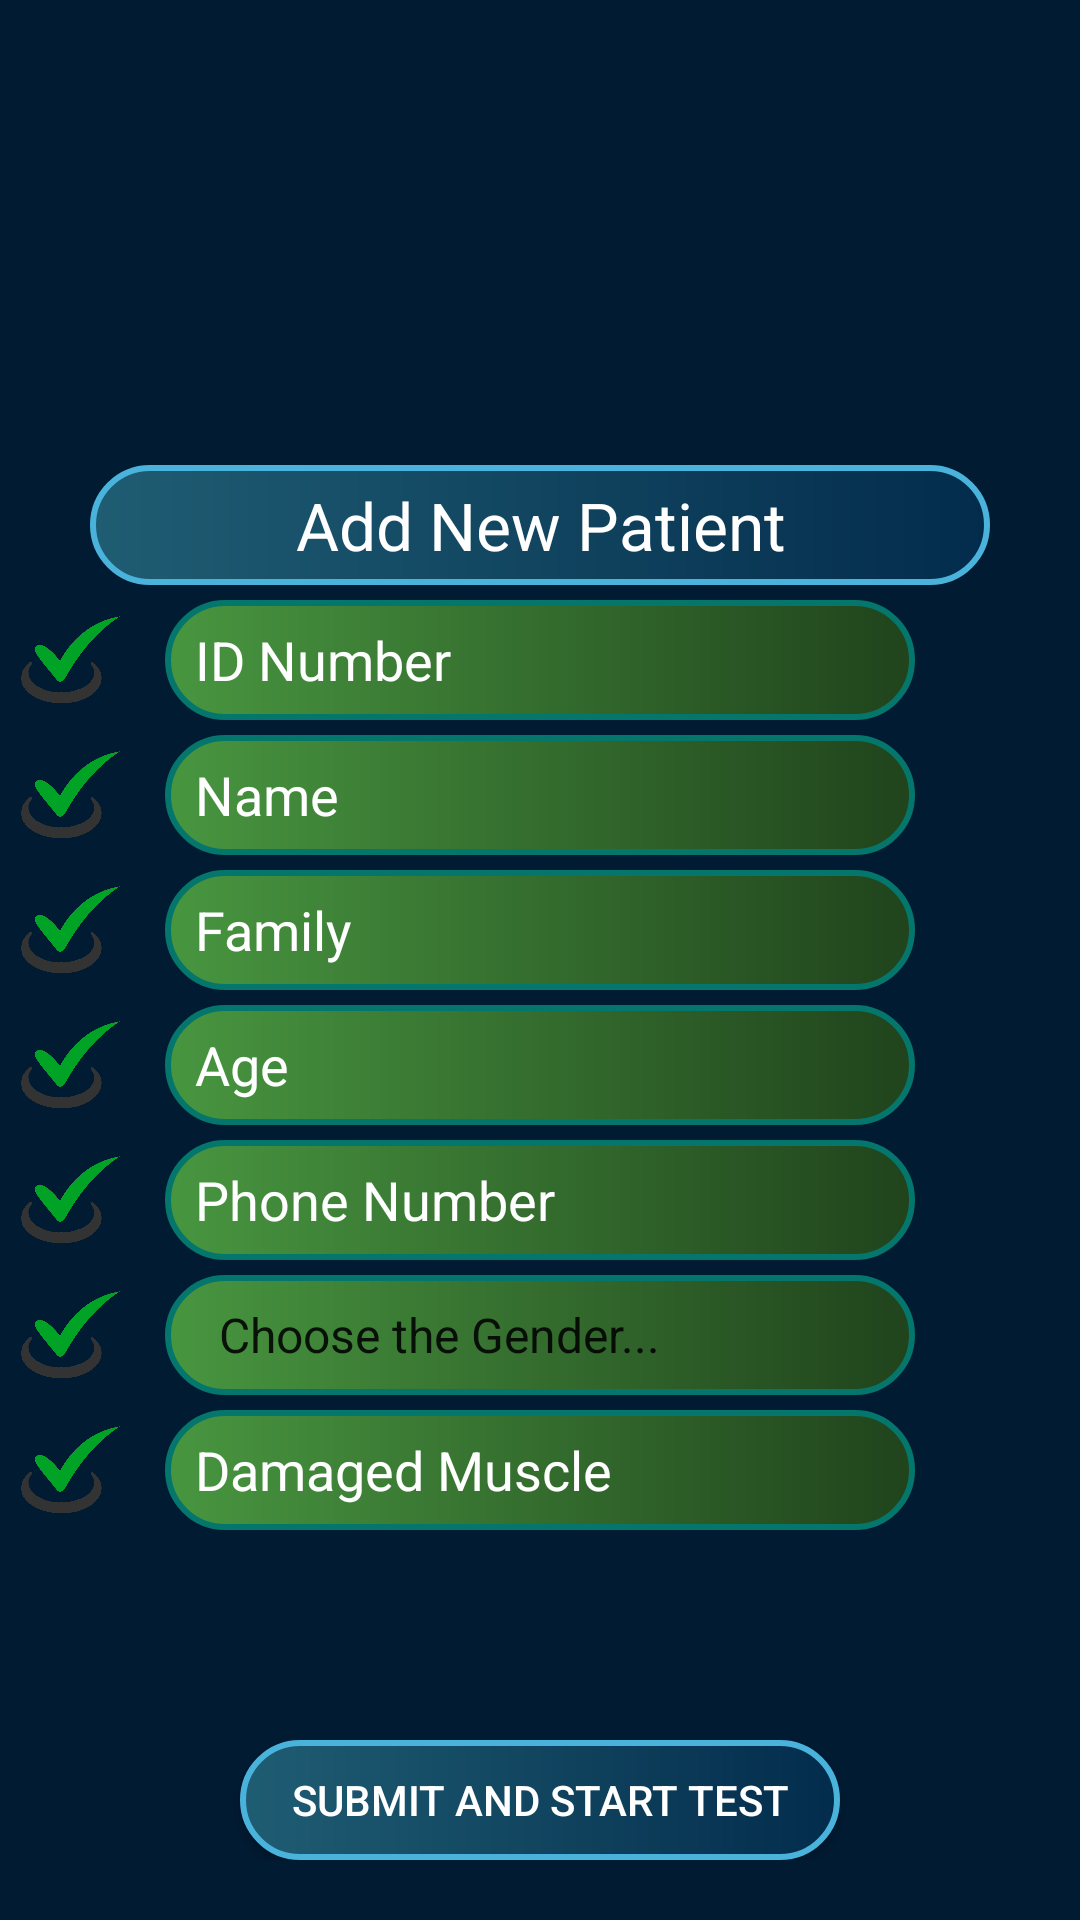

Icons on this 1080px x 1920px Android screen, each with the point to tap as point (x, y):
correct: point (70, 659), point (70, 794), point (70, 929), point (70, 1064), point (70, 1199), point (70, 1334), point (70, 1469)
